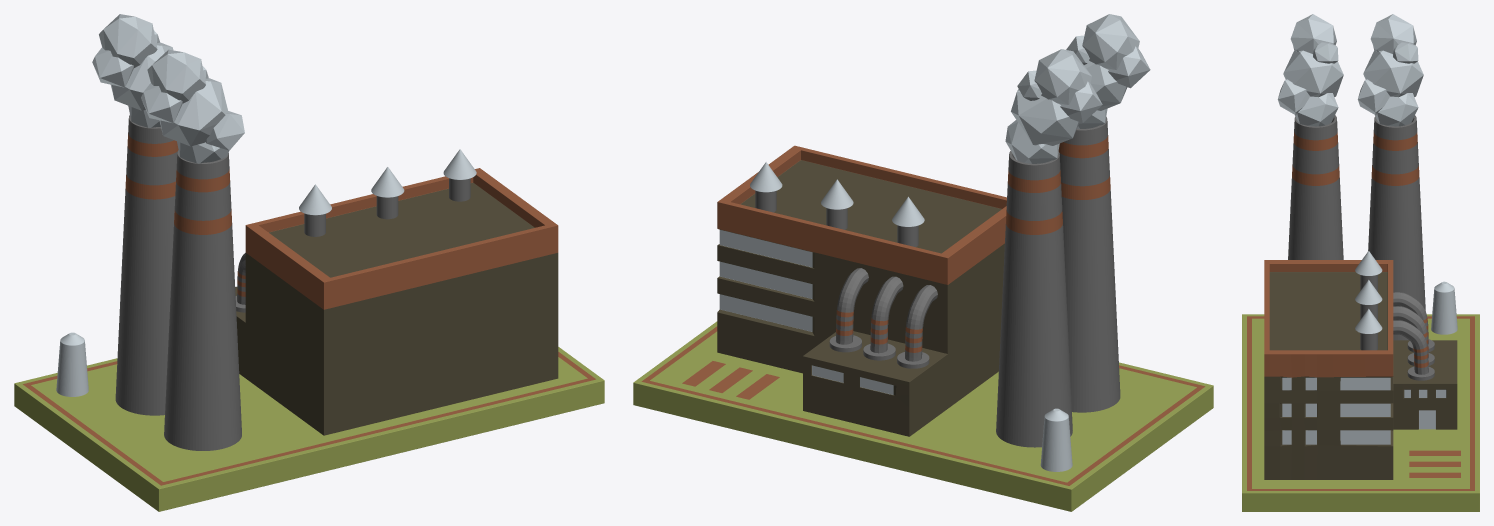
The picture shows the model from 3 angles, left to right: view 1: azimuth 30°, elevation 25°; view 2: azimuth 150°, elevation 25°; view 3: azimuth 270°, elevation 25°; orthographic projection. The views are drawn at different scales.
Parts seen in each view (by area): view 1: Factory; view 2: Factory; view 3: Factory.
Part boxes in pixels (bbox=[...]): Factory: bbox=[14, 14, 604, 511]; Factory: bbox=[633, 14, 1213, 511]; Factory: bbox=[1242, 14, 1479, 511].
Size of the model in its own units: 279 by 247 by 157.
